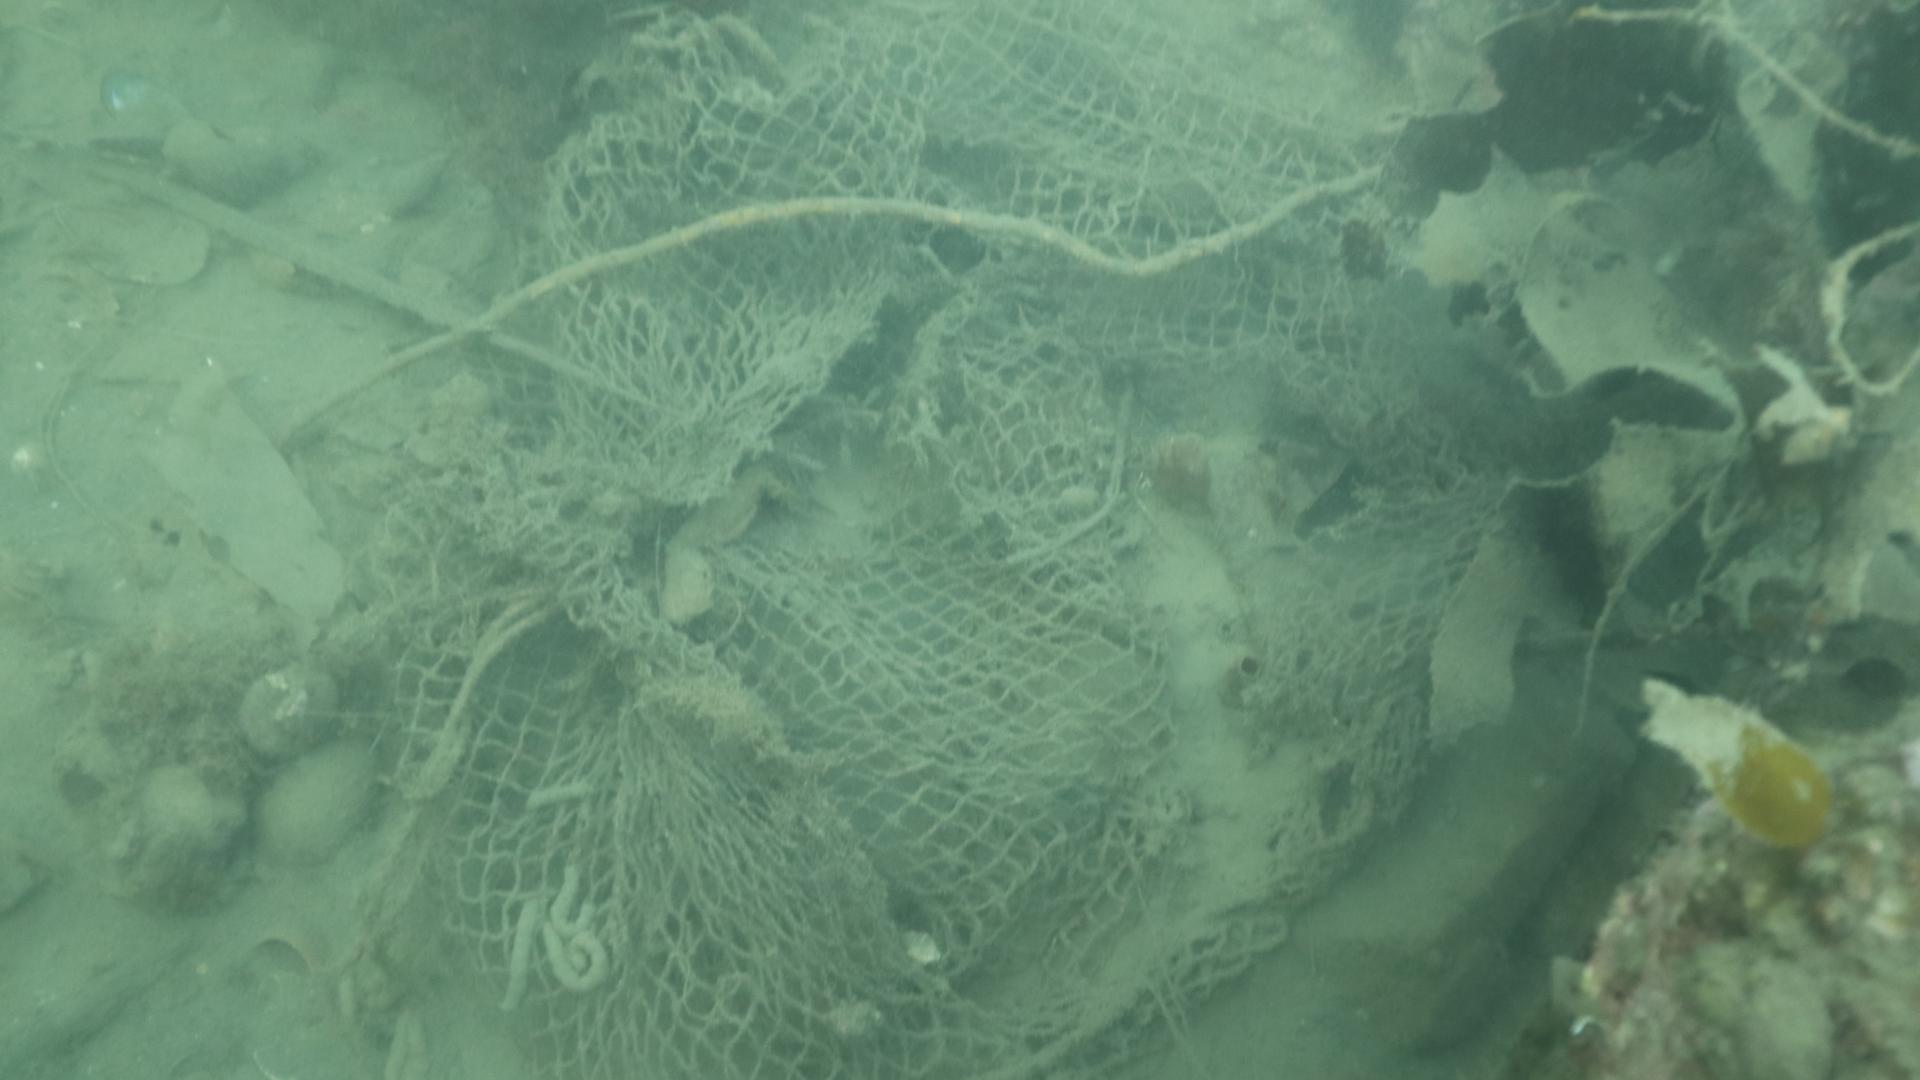fish net: (406, 0, 1501, 1080)
